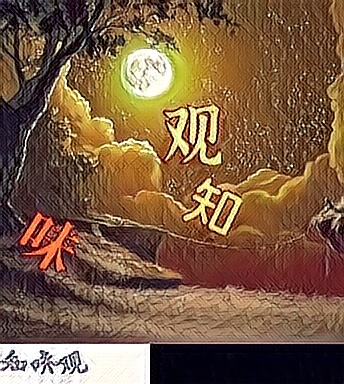B9DB: (160, 104, 222, 168)
CEB6: (16, 209, 78, 273)
D6AA: (182, 174, 244, 238)
